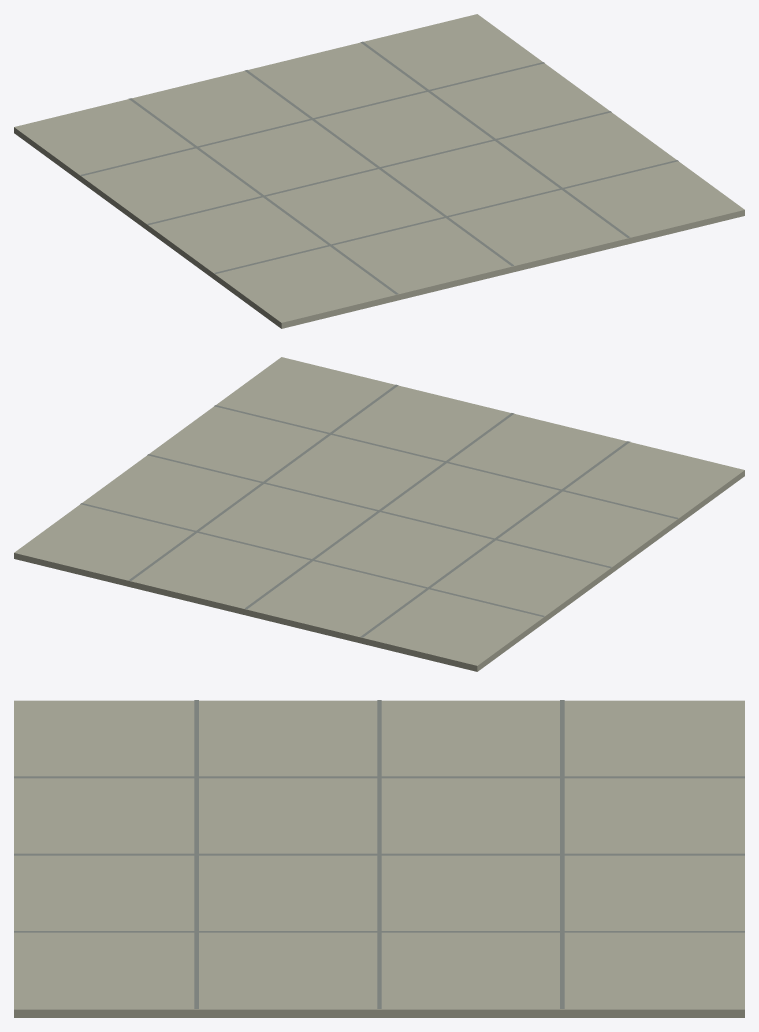
Rendered from PlazaTile.obj.
The picture shows the model from 3 angles, top to bottom: view 1: azimuth 30°, elevation 25°; view 2: azimuth 150°, elevation 25°; view 3: azimuth 270°, elevation 25°; orthographic projection. The views are drawn at different scales.
Visible parts, largest first — view 1: PlazaTile; view 2: PlazaTile; view 3: PlazaTile.
Part boxes in pixels (box(x1,y1,x2,y2)): PlazaTile: box(14, 14, 744, 328); PlazaTile: box(14, 357, 744, 671); PlazaTile: box(14, 700, 744, 1017).
Bounding box in the file's own units: 4 × 0.053 × 4.
